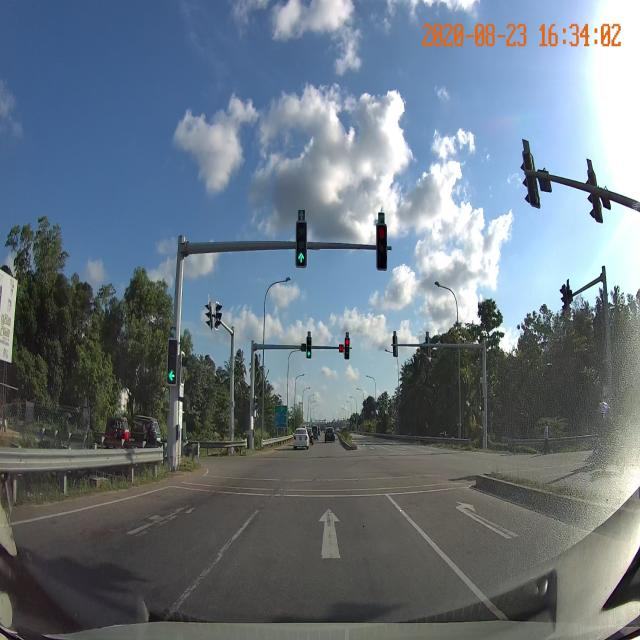forward: (213, 500, 448, 555)
